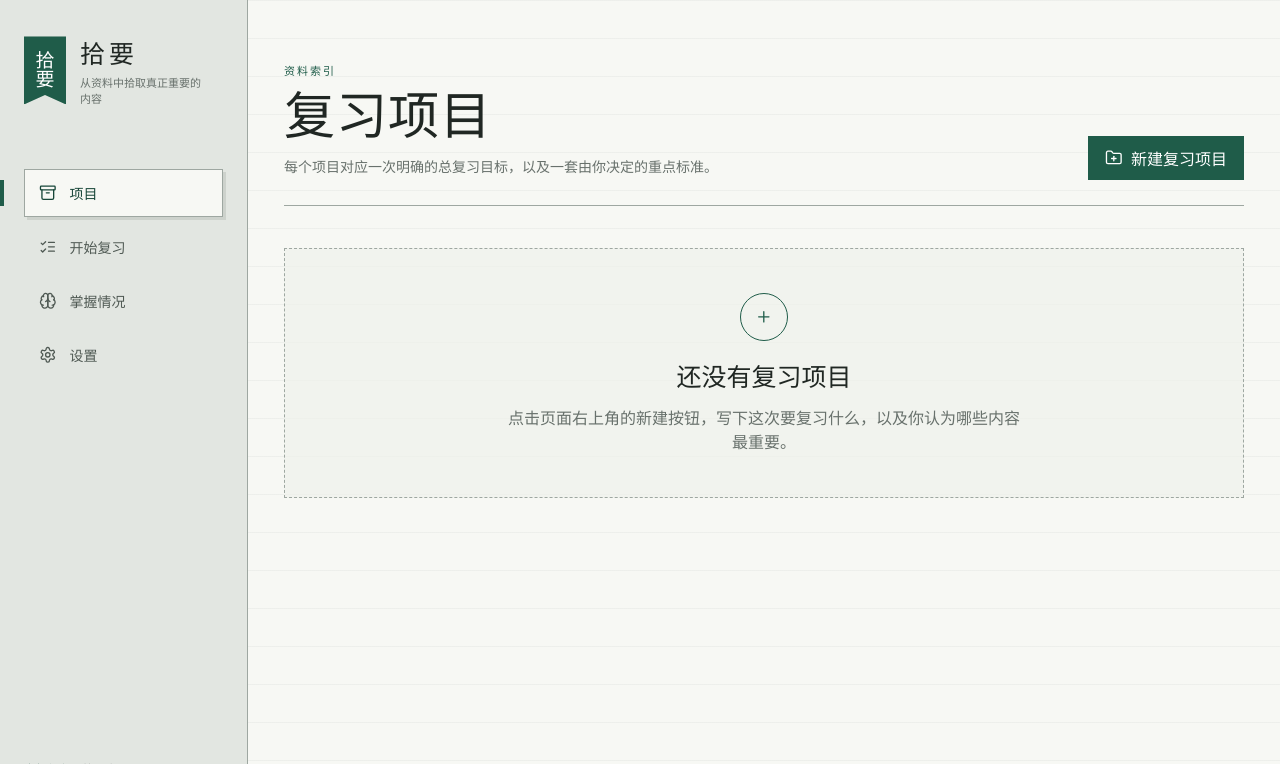
it: creates a review project and opens its six-step workspace
Click the button "新建复习项目" at (1166, 158), box x1=1088 y1=136 x2=1244 y2=180
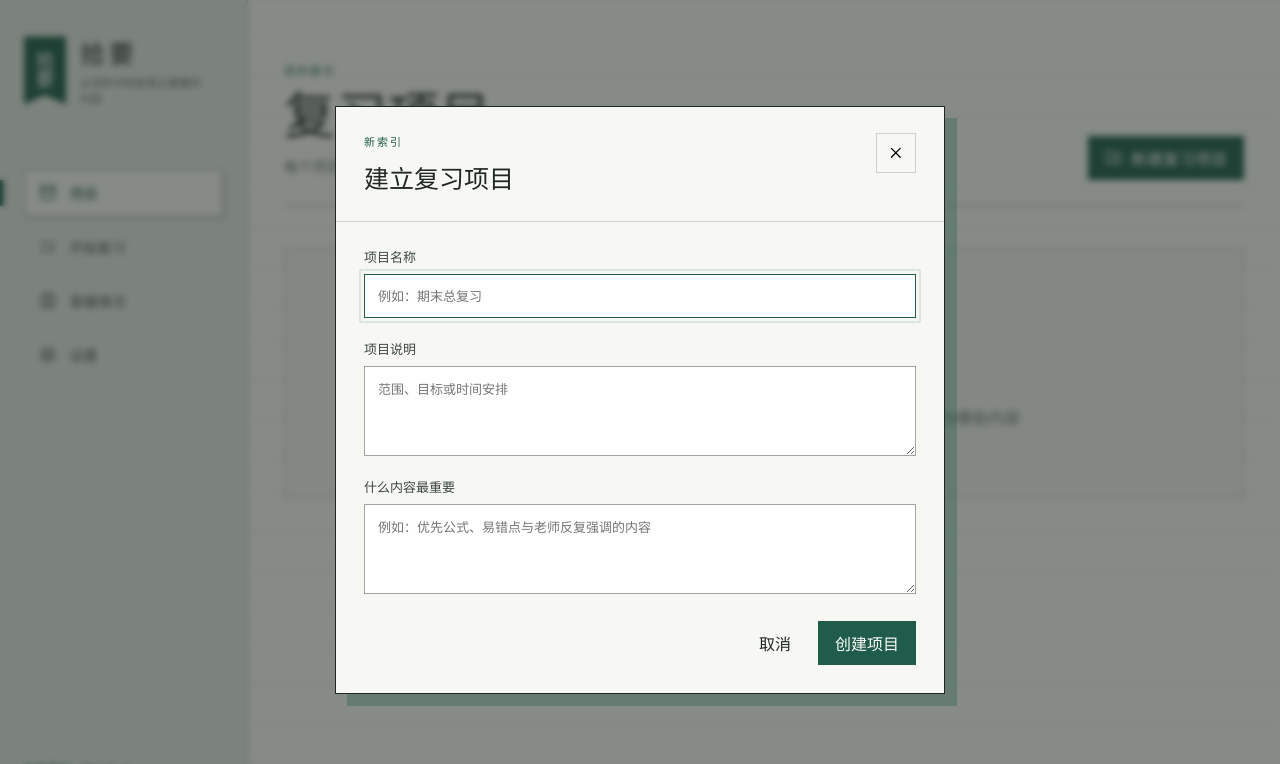
Type "期末总复习" into the field labelled "项目名称" at (640, 296), box x1=364 y1=274 x2=916 y2=318
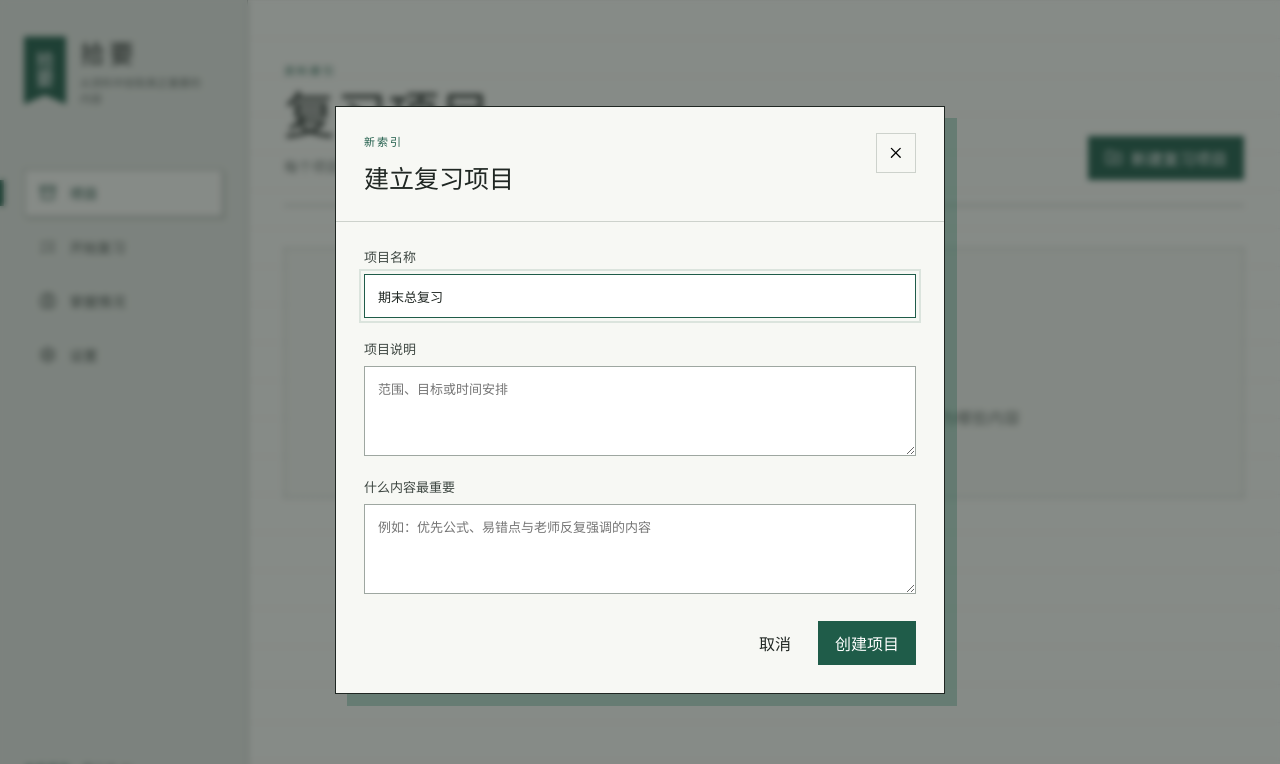
Type "材料综合复习" into the text box labelled "项目说明" at (640, 411), box x1=364 y1=366 x2=916 y2=456
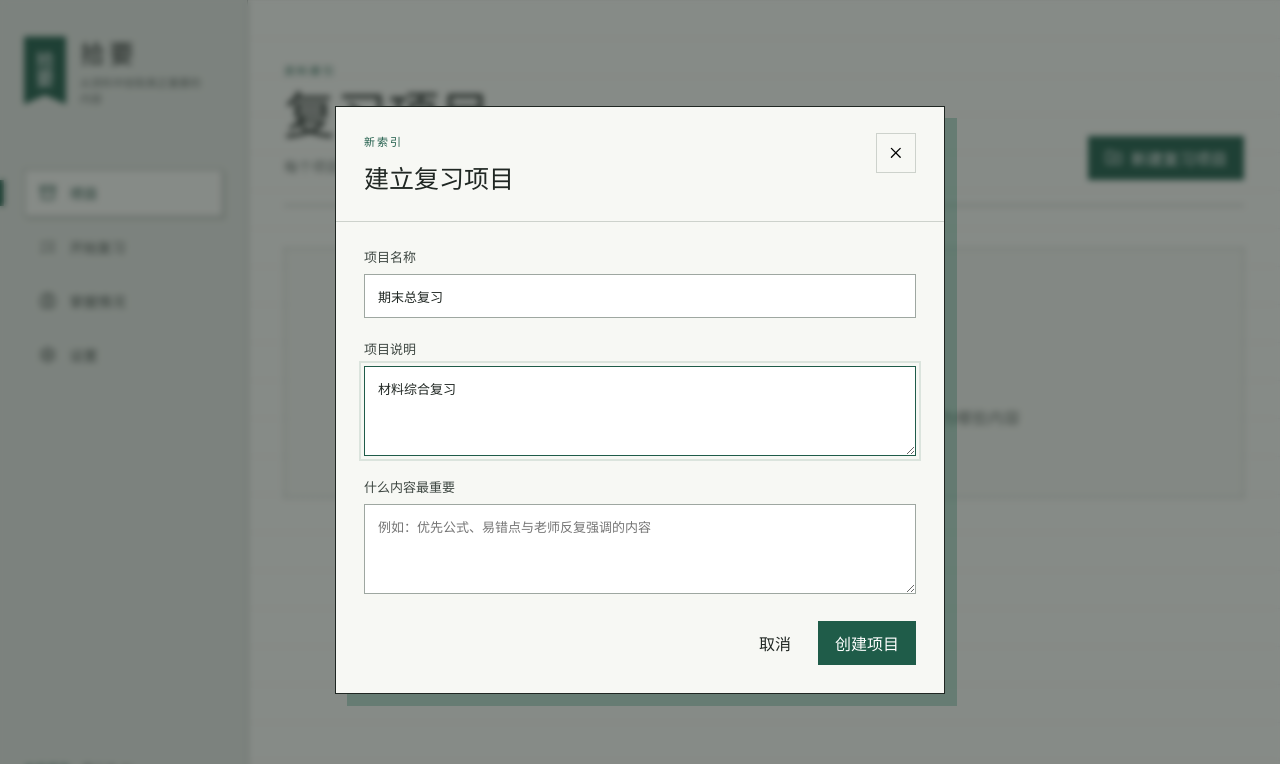
Type "优先公式与易错点" into the text box labelled "什么内容最重要" at (640, 549), box x1=364 y1=504 x2=916 y2=594
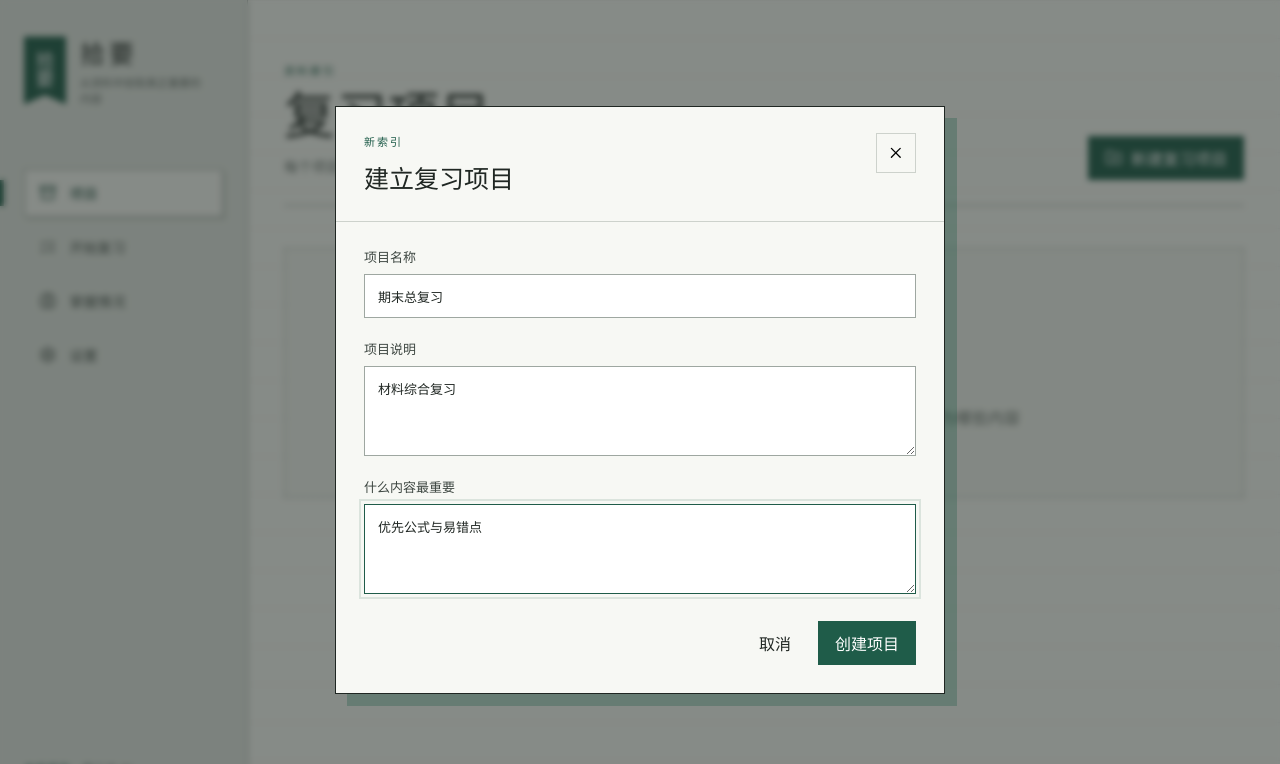
Click the button "创建项目" at (867, 643), box x1=818 y1=621 x2=916 y2=665
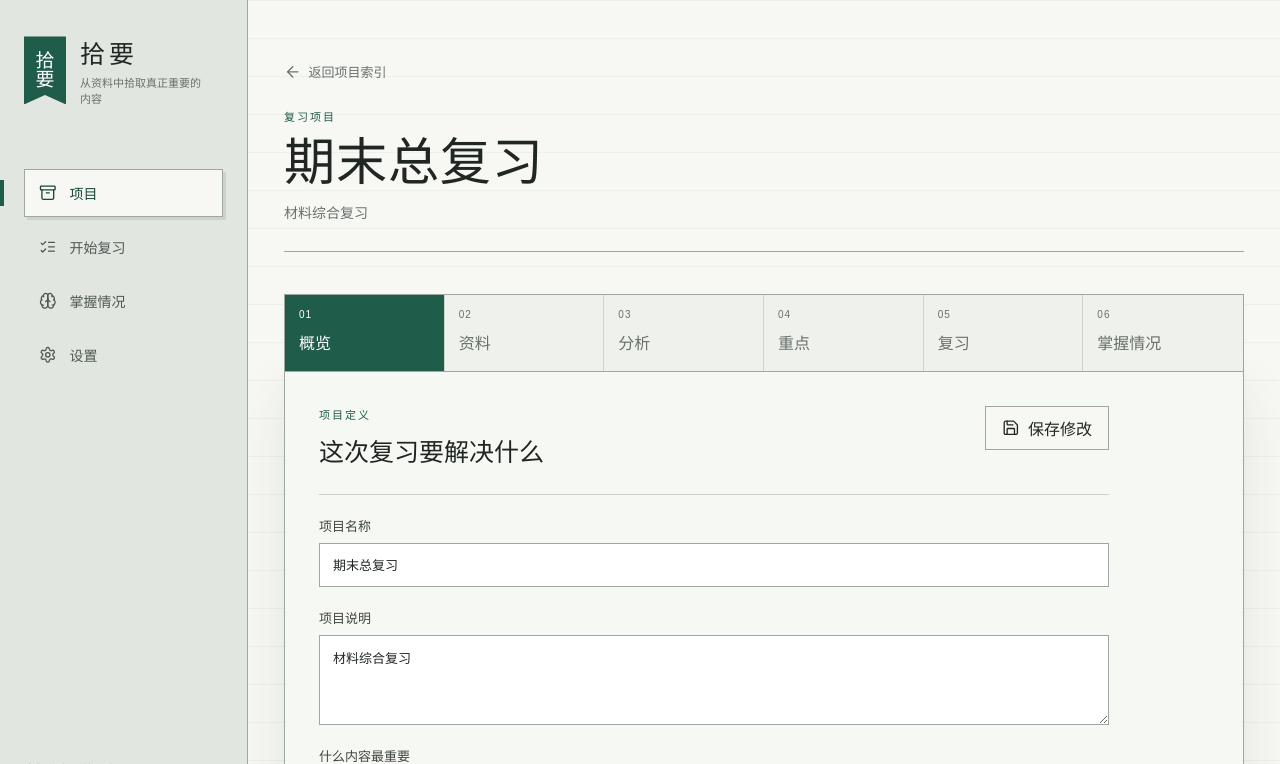
Result: the heading "期末总复习" is shown at x1=284 y1=134 x2=544 y2=191
Result: the tab "01 概览" is shown at x1=285 y1=295 x2=445 y2=371
Result: the tab "02 资料" is shown at x1=445 y1=295 x2=604 y2=371
